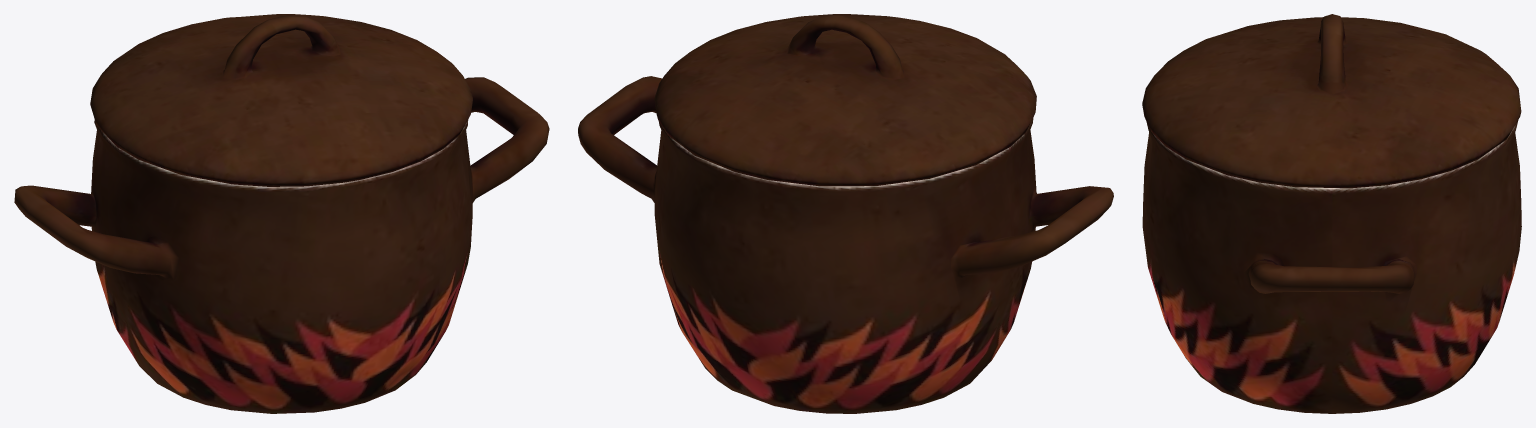
File: pot_enamel_01.glb
The picture shows the model from 3 angles, left to right: view 1: azimuth 30°, elevation 25°; view 2: azimuth 150°, elevation 25°; view 3: azimuth 270°, elevation 25°; orthographic projection.
Visible parts, largest first — view 1: pot_enamel_01_base, pot_enamel_01_lid; view 2: pot_enamel_01_base, pot_enamel_01_lid; view 3: pot_enamel_01_base, pot_enamel_01_lid.
Part boxes in pixels (<box>): pot_enamel_01_base: <box>14,77,549,413</box>; pot_enamel_01_lid: <box>90,14,472,186</box>; pot_enamel_01_base: <box>578,76,1113,413</box>; pot_enamel_01_lid: <box>654,14,1036,186</box>; pot_enamel_01_base: <box>1142,120,1521,413</box>; pot_enamel_01_lid: <box>1142,14,1521,188</box>.
Size of the model in its own units: 0.2625 by 0.1778 by 0.1802.
1 material, 1 textured.
